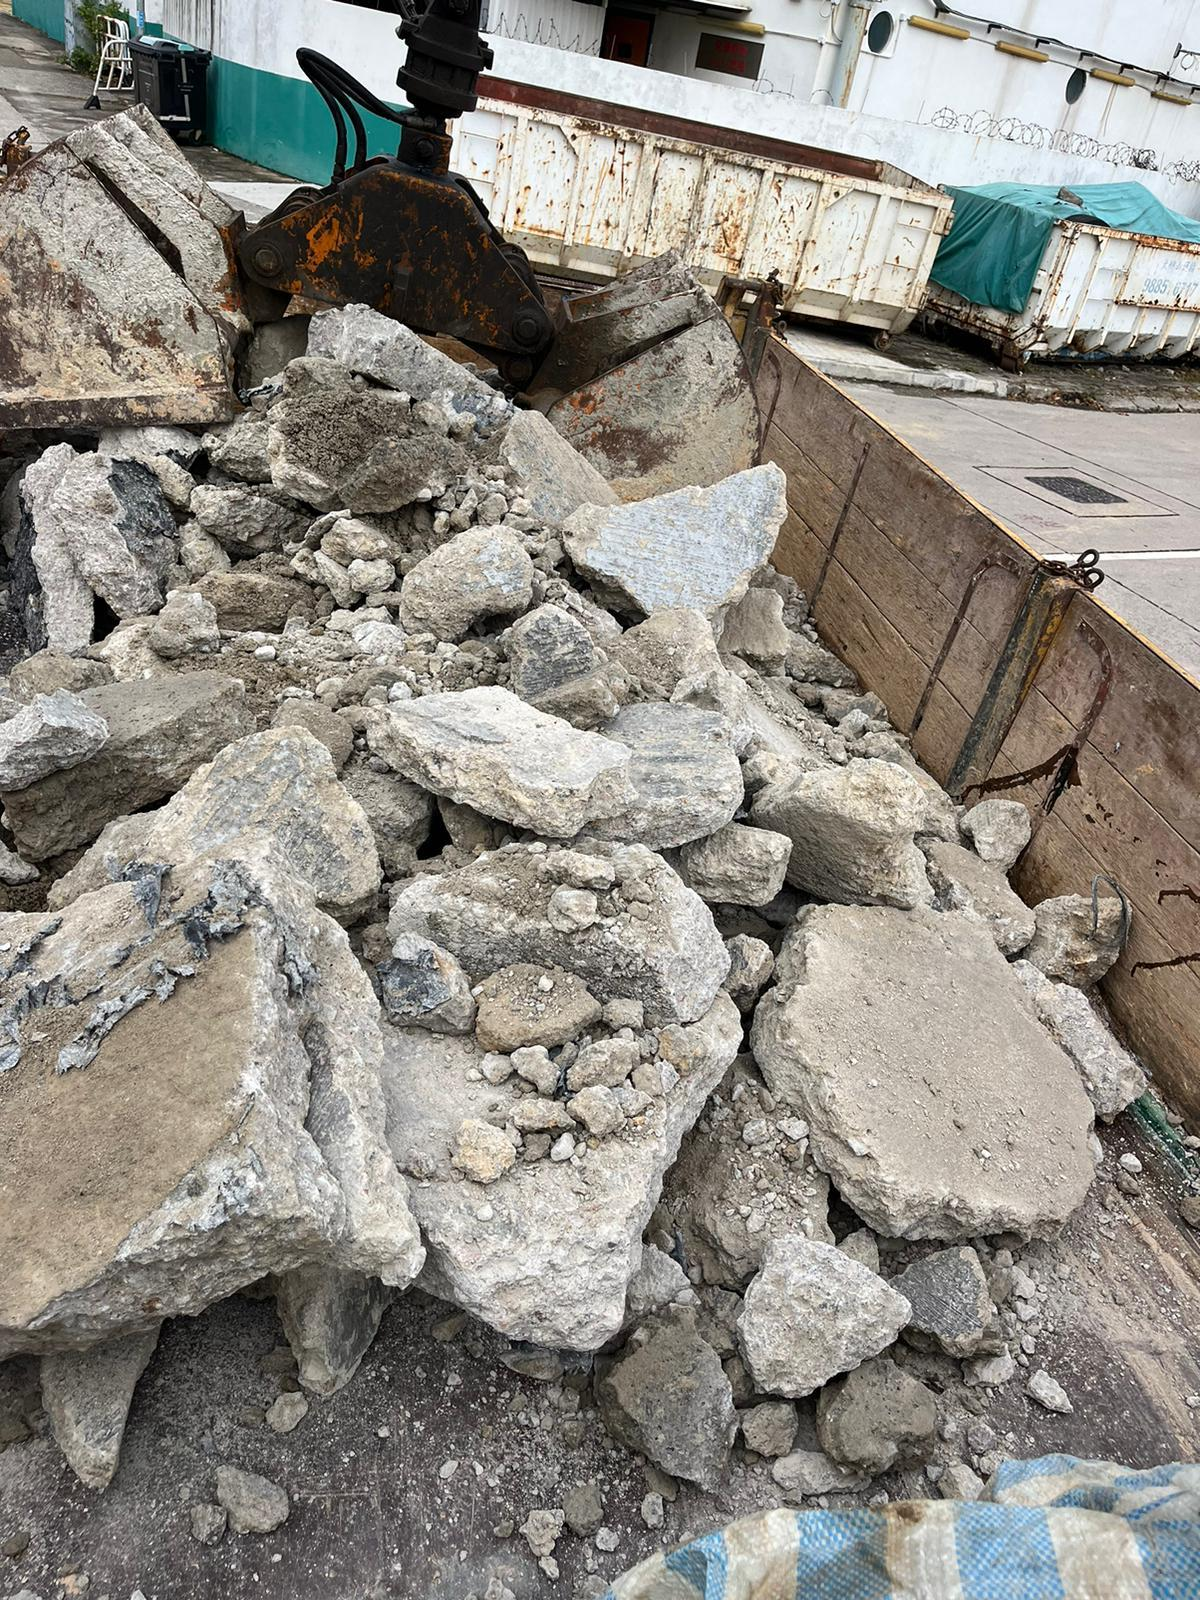dry: (10, 315, 1108, 1465)
